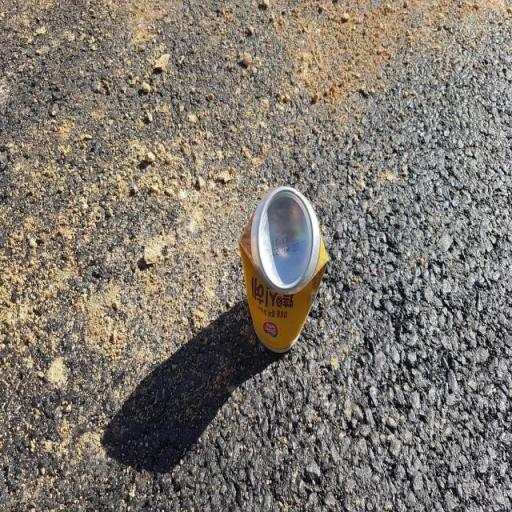metal: (208, 130, 362, 380)
